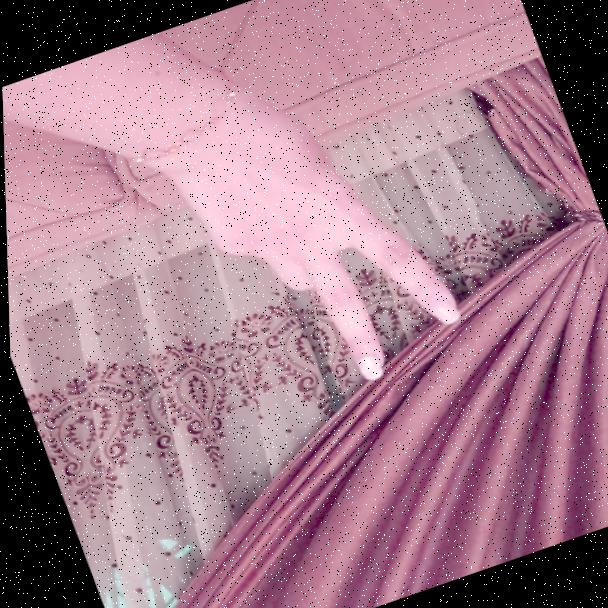two: (138, 57, 486, 432)
